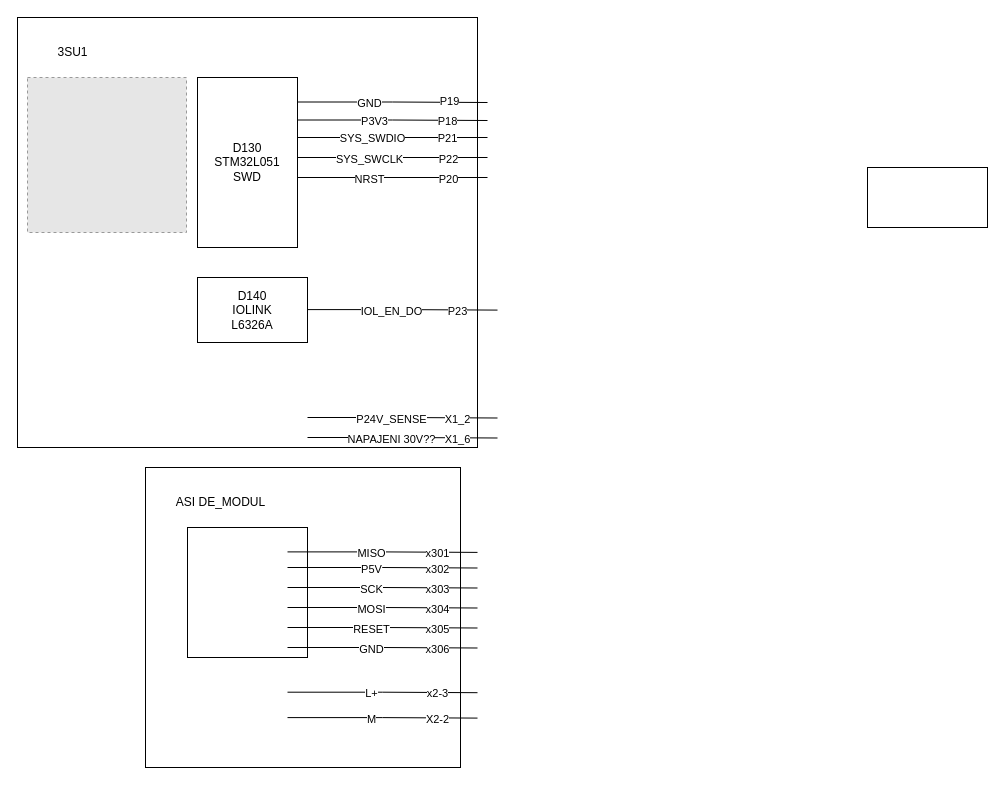
This 1005x785 diagram has some shape labels left out. Grey dashed boxes stand in for pictures. The centre of each missing label's shape, as x and y in pixels:
D301 ATMEGA168 ISP: the point at 247,592
SPI FLASH D230 MXIC 25L8006E: the point at 927,197
